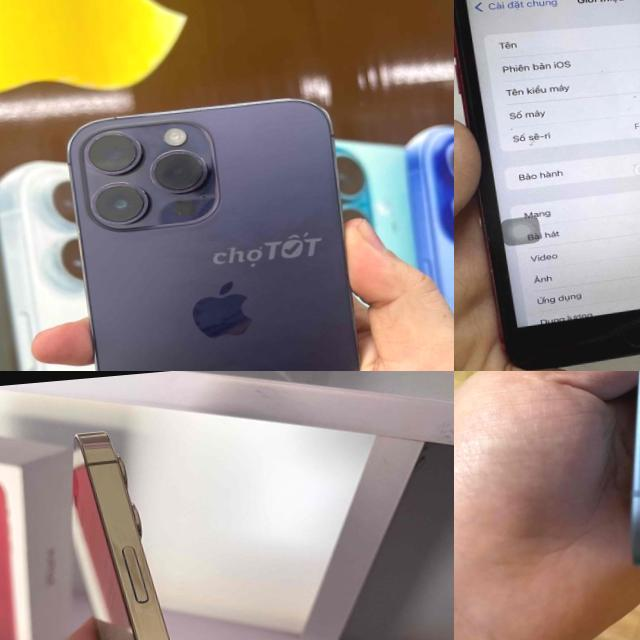gen_12_13: (55, 409, 271, 640)
gen_14: (67, 84, 393, 371), (572, 371, 640, 559)
gen_7_8: (454, 0, 640, 371)
